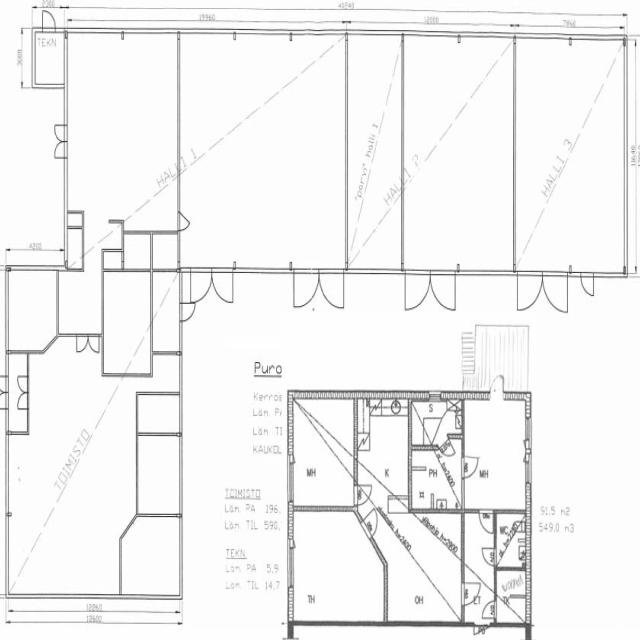door: (543, 267, 568, 309), (430, 268, 456, 308), (319, 267, 344, 308), (294, 267, 319, 308), (518, 267, 542, 309), (406, 268, 430, 308), (190, 268, 212, 304), (212, 268, 233, 304), (361, 507, 383, 538), (438, 436, 455, 460), (462, 582, 480, 604), (462, 456, 480, 478), (354, 484, 372, 506), (479, 509, 494, 534), (491, 372, 504, 399), (580, 268, 594, 292), (179, 303, 196, 322), (43, 8, 56, 32), (474, 622, 490, 640), (178, 212, 194, 230), (52, 141, 68, 158), (52, 124, 68, 141), (482, 600, 497, 618), (482, 548, 497, 566), (76, 333, 88, 352), (16, 392, 29, 409), (88, 333, 99, 352), (16, 376, 29, 392), (0, 392, 8, 408), (0, 376, 8, 392)
